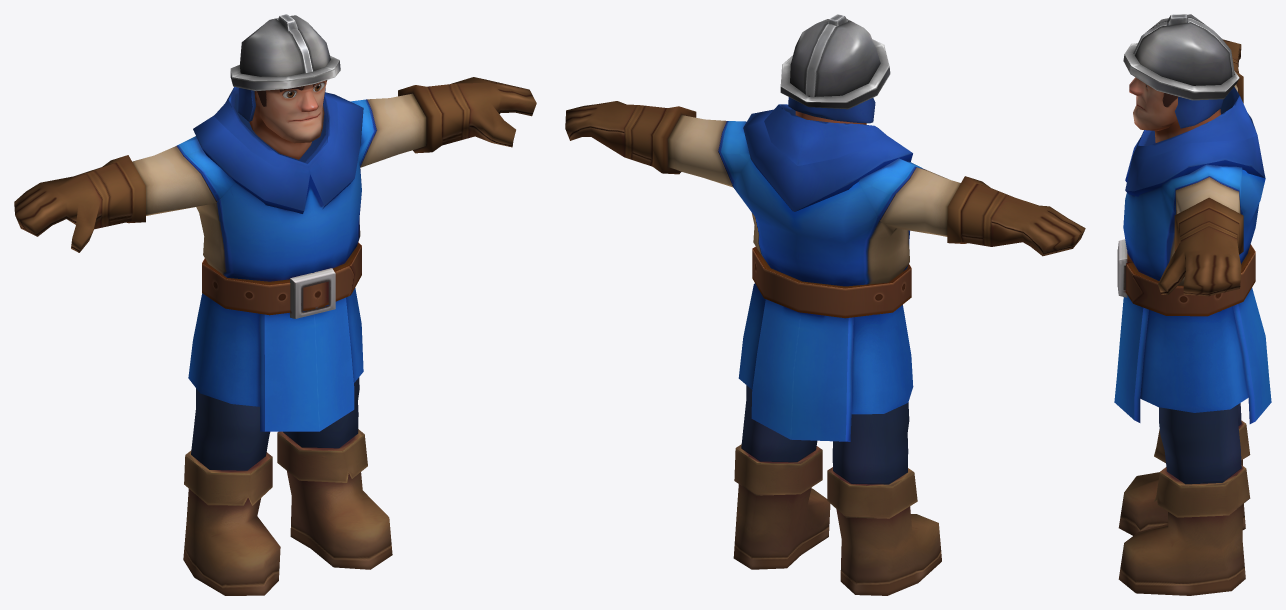
Rendered from MC_basic.fbx.
3 views of the same model, side by side, from view 1: azimuth 30°, elevation 25°; view 2: azimuth 150°, elevation 25°; view 3: azimuth 270°, elevation 25° (orthographic).
Parts seen in each view (by area): view 1: MC_basic_m; view 2: MC_basic_m; view 3: MC_basic_m.
Boxes of the visible parts, box(x1,y1,x2,y2) form: MC_basic_m: box(14, 14, 536, 595); MC_basic_m: box(565, 14, 1085, 595); MC_basic_m: box(1114, 14, 1271, 595).
Size of the model in its own units: 1.8 by 1.82 by 0.4814.
